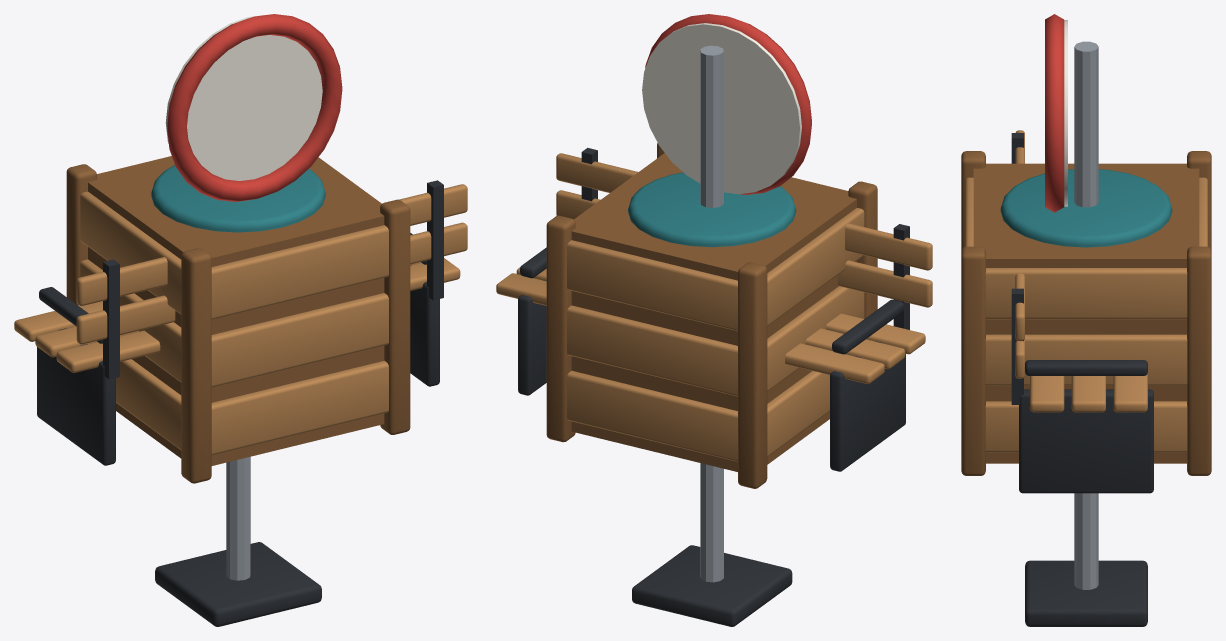
The model's file is props.glb.
3 renders of one model, left to right at view 1: azimuth 30°, elevation 25°; view 2: azimuth 150°, elevation 25°; view 3: azimuth 270°, elevation 25°, orthographic. The views are drawn at different scales.
Parts seen in each view (by area): view 1: prop_crate, prop_sign, prop_bench, prop_barrel; view 2: prop_crate, prop_sign, prop_bench, prop_barrel; view 3: prop_crate, prop_bench, prop_sign, prop_barrel.
Part boxes in pixels (x1,y1,x2,y2): prop_crate: [66, 156, 410, 483]; prop_sign: [155, 14, 342, 626]; prop_bench: [14, 180, 467, 465]; prop_barrel: [151, 165, 325, 232]; prop_crate: [546, 143, 877, 488]; prop_sign: [632, 14, 811, 626]; prop_bench: [496, 147, 932, 471]; prop_barrel: [628, 172, 796, 247]; prop_crate: [961, 151, 1211, 475]; prop_bench: [1011, 130, 1153, 493]; prop_sign: [1025, 14, 1147, 626]; prop_barrel: [1000, 169, 1172, 247].
Bounding box in the file's own units: 1.8 × 2.61 × 1.02.
